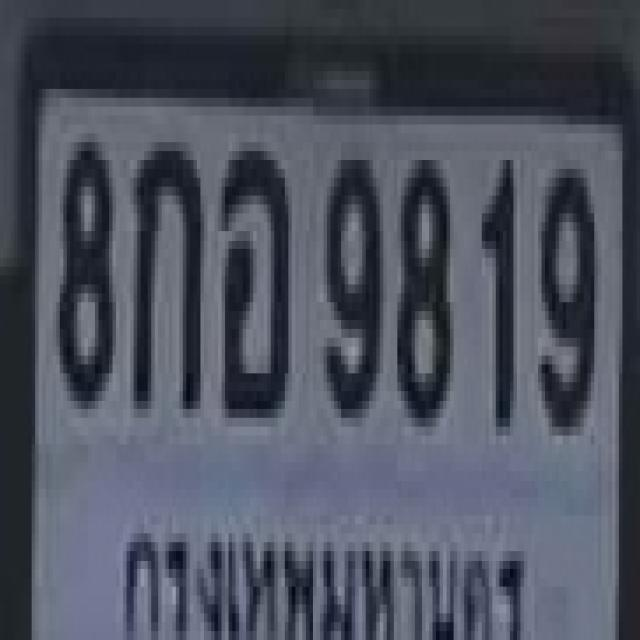-: (130, 133, 201, 400), (218, 142, 285, 409)
1: (478, 151, 510, 418)
8: (56, 133, 109, 400), (394, 151, 446, 418)
9: (538, 156, 591, 422), (324, 151, 376, 409)
BKK: (106, 498, 533, 640)
